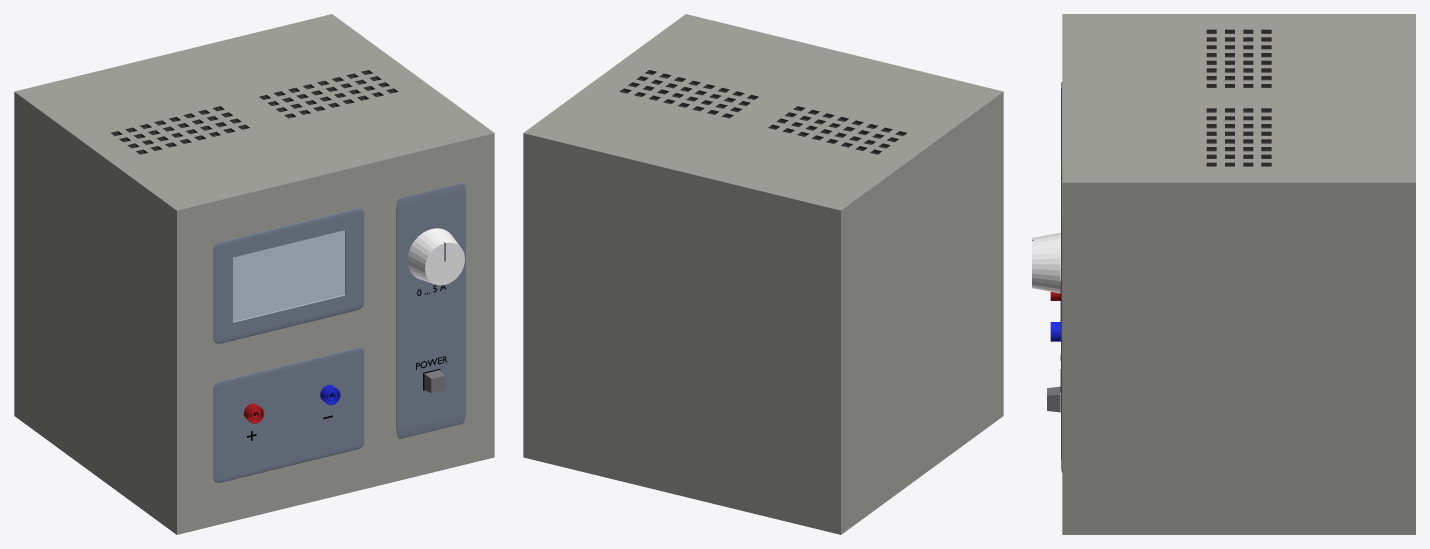
File: currentSource.glb
3 renders of one model, left to right at view 1: azimuth 30°, elevation 25°; view 2: azimuth 150°, elevation 25°; view 3: azimuth 270°, elevation 25°, orthographic. The views are drawn at different scales.
Visible parts, largest first — view 1: stand, Cylinder; view 2: stand; view 3: stand, Cylinder.
Boxes of the visible parts, left/top/right/bottom form: stand: left=14, top=14, right=494, bottom=534; Cylinder: left=407, top=228, right=464, bottom=285; stand: left=523, top=14, right=1003, bottom=534; stand: left=1050, top=14, right=1415, bottom=534; Cylinder: left=1032, top=232, right=1060, bottom=293.
Bounding box in the file's own units: 229 × 223 × 220.
